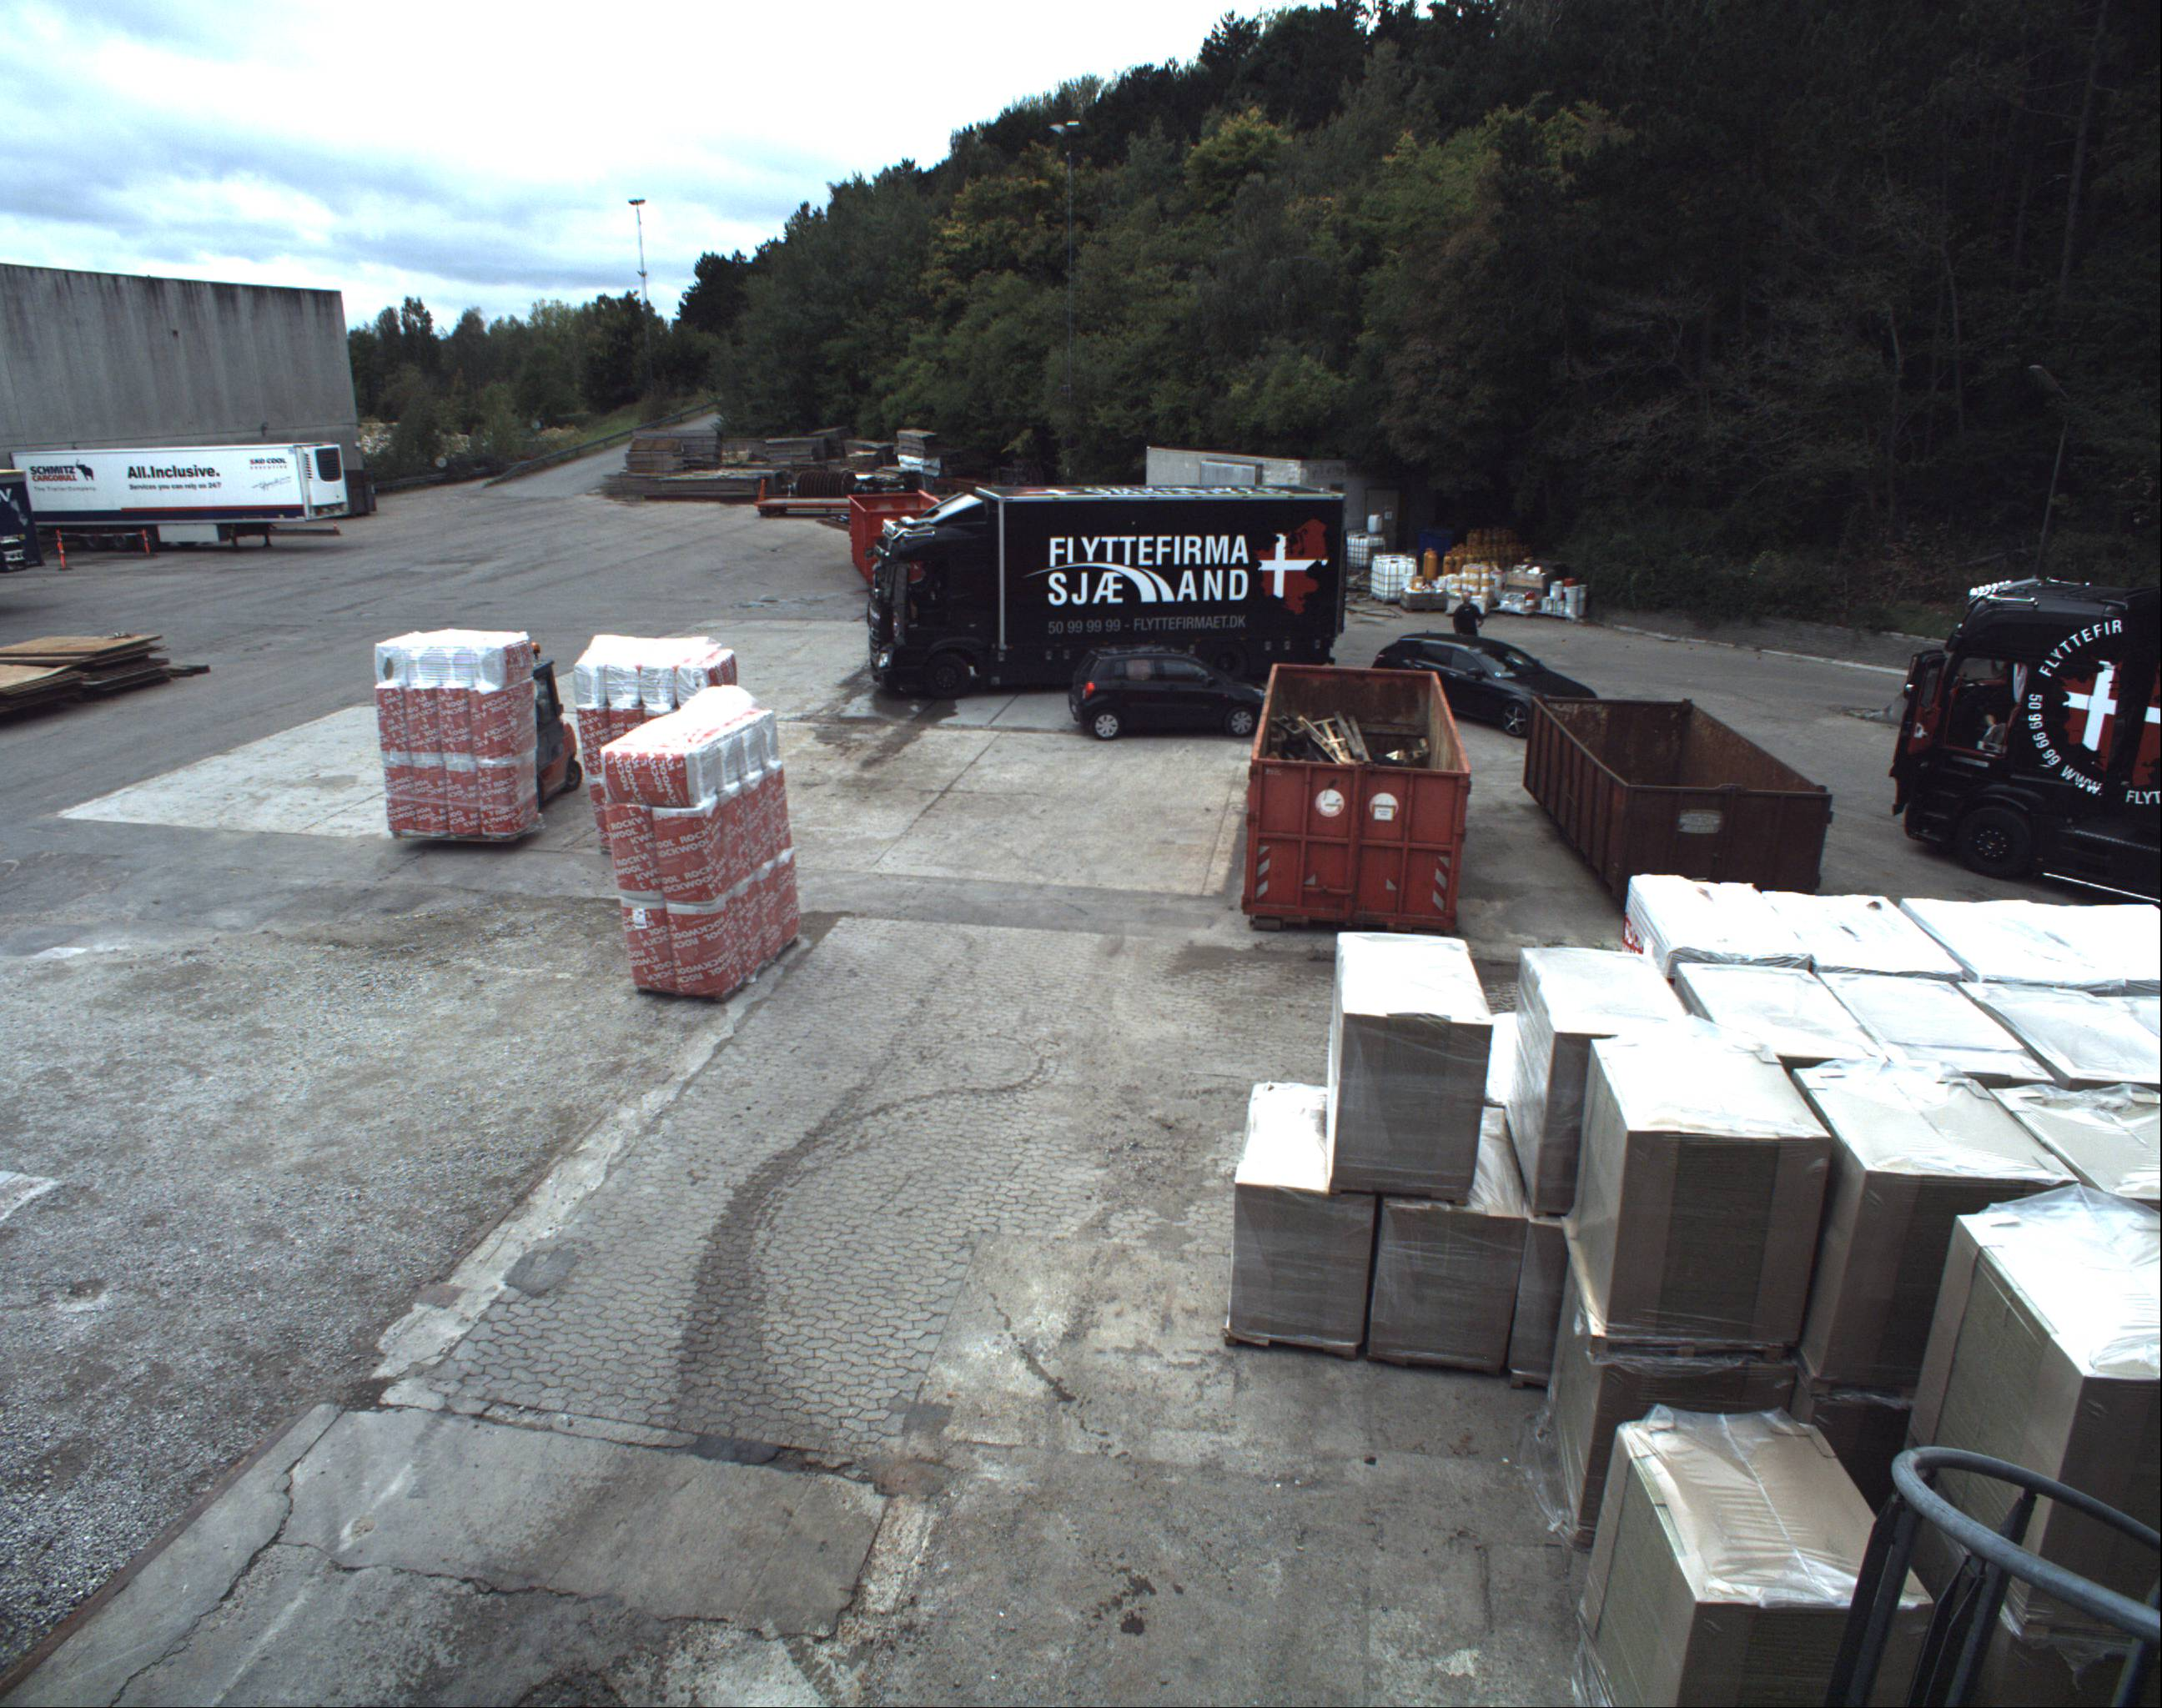rockwool_batts: (604, 695, 797, 1004), (370, 613, 540, 837), (579, 621, 748, 736)
